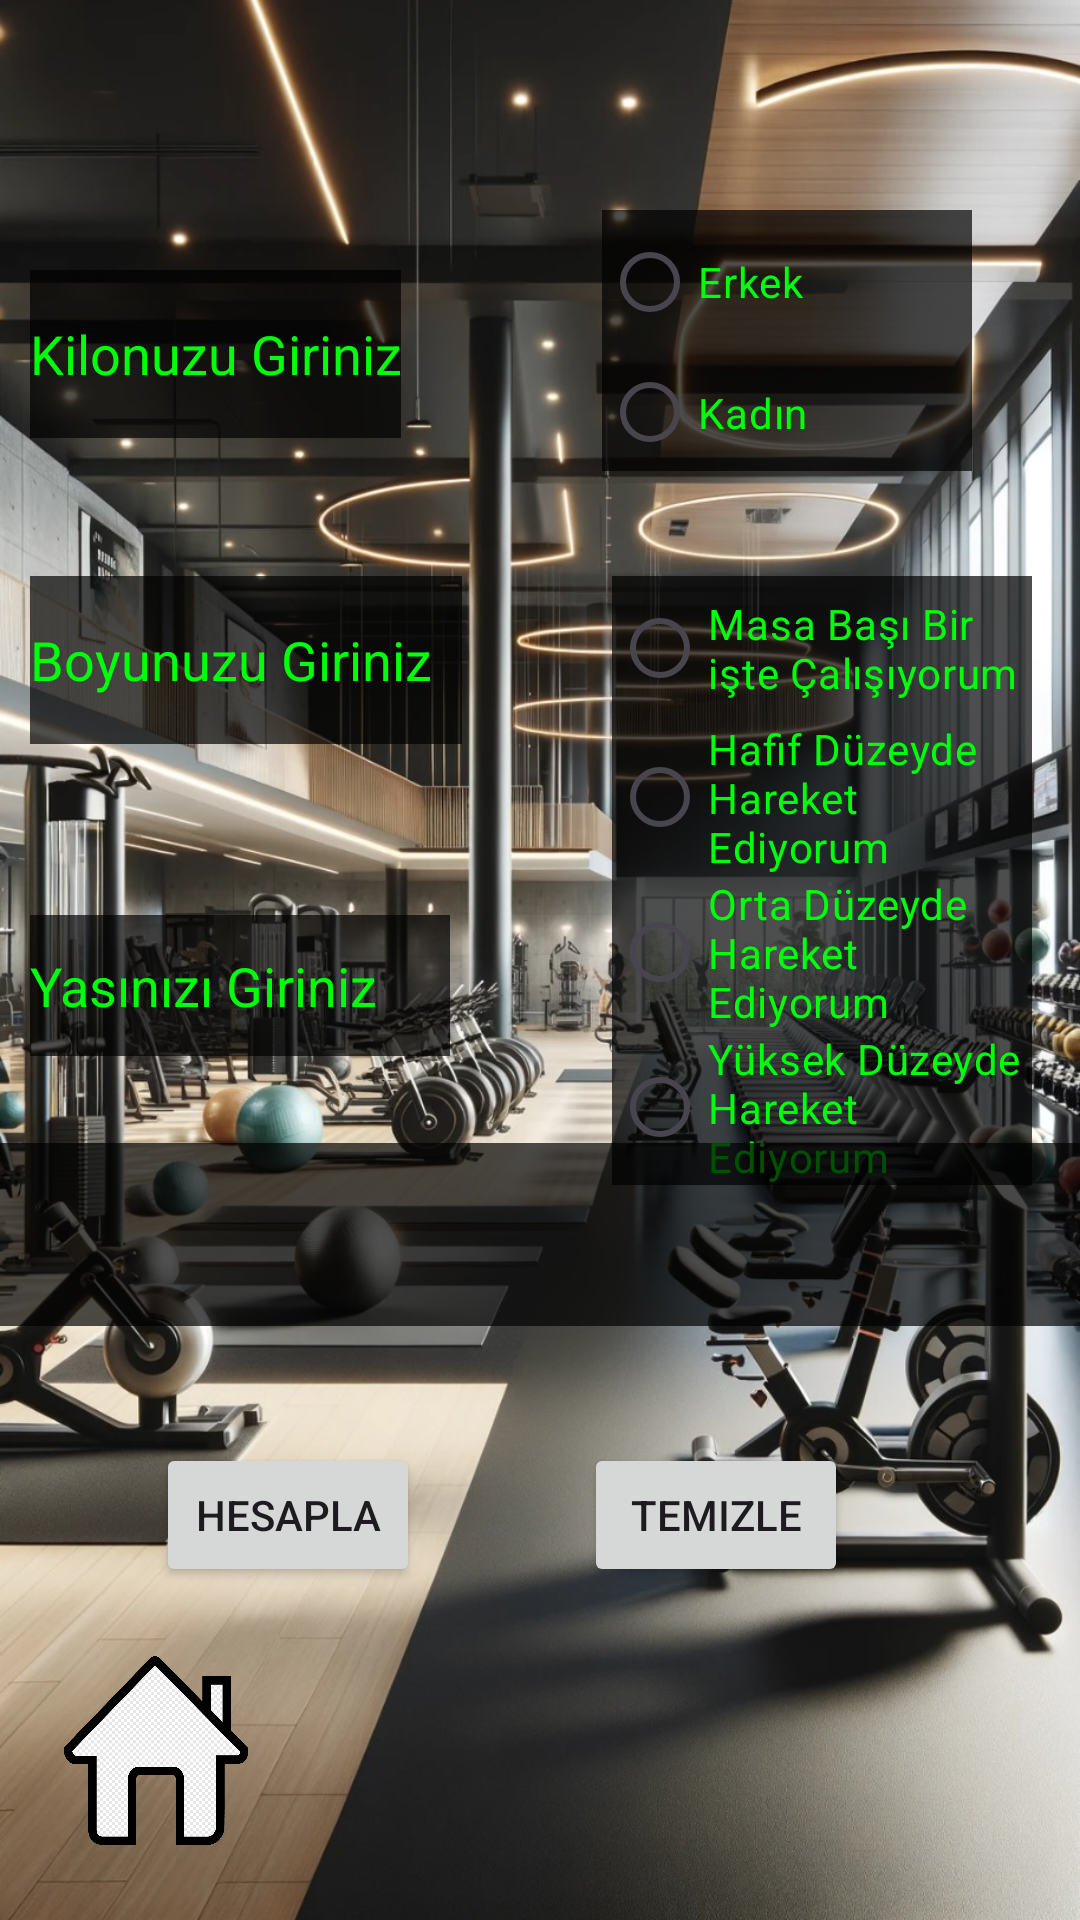

Named icons in this screenshot (1080px x 1920px) and their centers, (x,y):
home: (156,1750)
